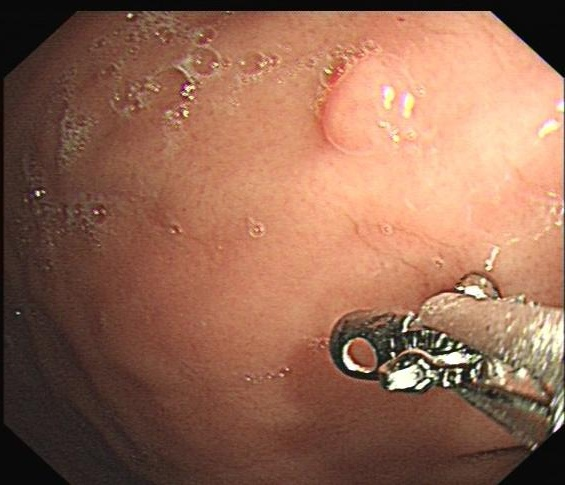Polyp: (321, 52, 422, 156)
